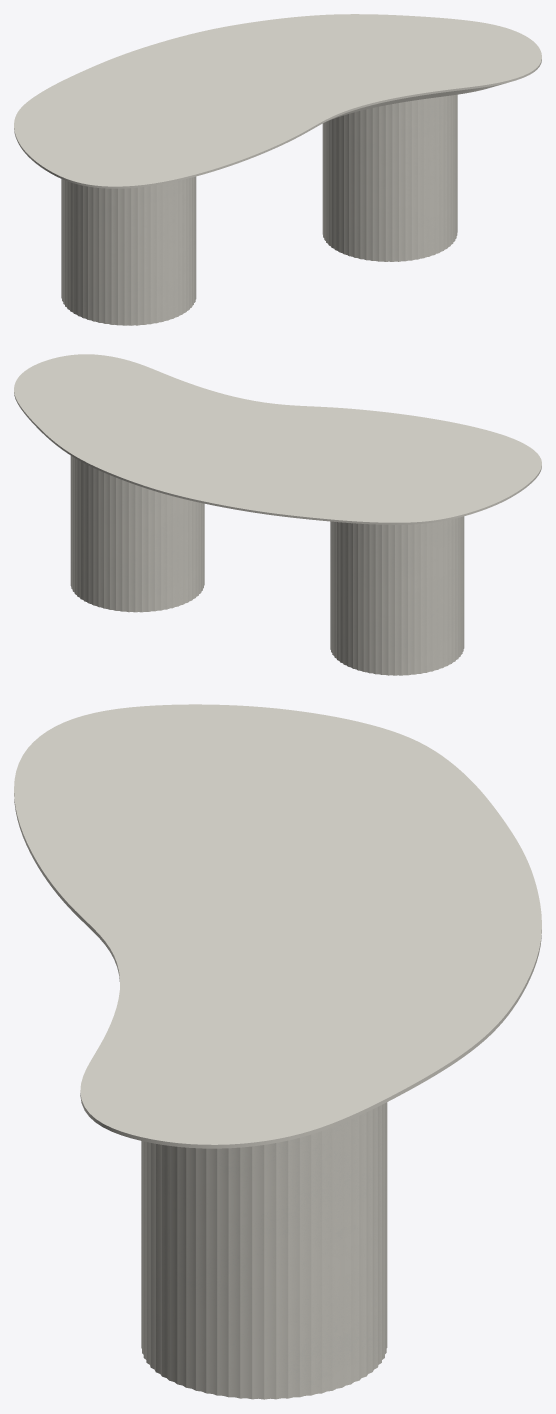
File: pale_leaf1_facet_ripplesecond.glb
The picture shows the model from 3 angles, top to bottom: view 1: azimuth 30°, elevation 25°; view 2: azimuth 150°, elevation 25°; view 3: azimuth 270°, elevation 25°; orthographic projection. The views are drawn at different scales.
Parts seen in each view (by area): view 1: facet_leaf1, ripplesecond; view 2: facet_leaf1, ripplesecond; view 3: facet_leaf1, ripplesecond.
Part boxes in pixels (x1=…): facet_leaf1: x1=14, y1=14, x2=541, y2=188; ripplesecond: x1=61, y1=94, x2=457, y2=325; facet_leaf1: x1=14, y1=354, x2=541, y2=524; ripplesecond: x1=70, y1=456, x2=464, y2=675; facet_leaf1: x1=14, y1=704, x2=541, y2=1148; ripplesecond: x1=141, y1=1102, x2=387, y2=1399.
Size of the model in its own units: 7.5 by 2.5 by 3.8.
Materials: 1 (1 with a texture image).
